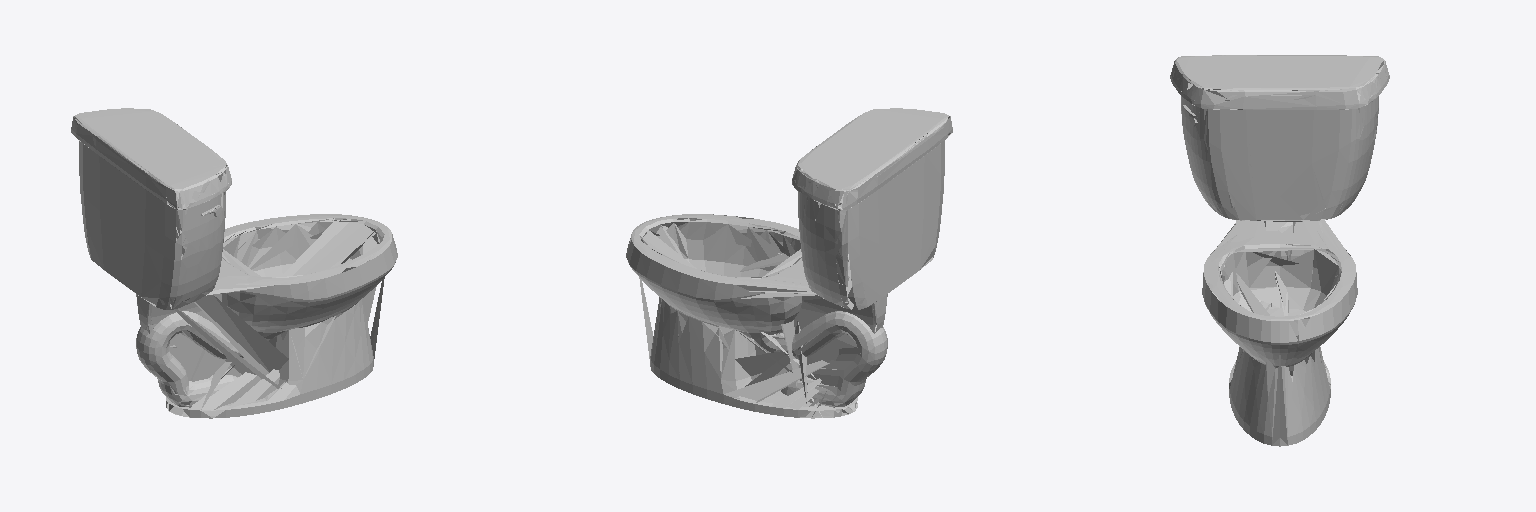
File: toilet_seat.obj
3 views of the same model, side by side, from view 1: azimuth 30°, elevation 25°; view 2: azimuth 150°, elevation 25°; view 3: azimuth 270°, elevation 25° (orthographic).
Parts seen in each view (by area): view 1: group_1_ID4, group_3_ID24.001, group_4_ID31, group_2_ID17; view 2: group_1_ID4, group_3_ID24.001, group_4_ID31, group_2_ID17; view 3: group_1_ID4, group_3_ID24.001, group_4_ID31, group_2_ID17.
Part boxes in pixels (bbox=[...]): group_1_ID4: bbox=[136, 214, 397, 418]; group_3_ID24.001: bbox=[79, 141, 225, 309]; group_4_ID31: bbox=[71, 108, 231, 209]; group_2_ID17: bbox=[136, 294, 247, 381]; group_1_ID4: bbox=[626, 214, 887, 418]; group_3_ID24.001: bbox=[798, 134, 944, 309]; group_4_ID31: bbox=[792, 108, 952, 215]; group_2_ID17: bbox=[755, 266, 887, 372]; group_1_ID4: bbox=[1202, 220, 1357, 446]; group_3_ID24.001: bbox=[1181, 75, 1378, 221]; group_4_ID31: bbox=[1170, 55, 1389, 109]; group_2_ID17: bbox=[1264, 221, 1295, 315].
Bounding box in the file's own units: 0.7579 × 0.7274 × 0.5344.